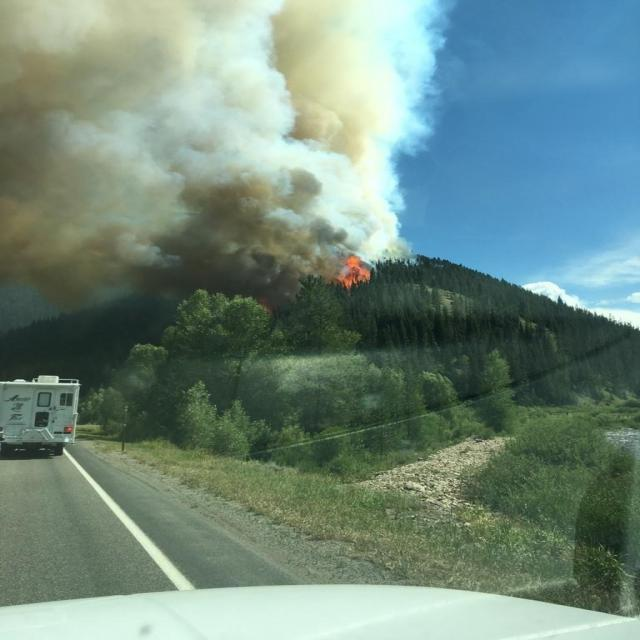Fire: (340, 253, 378, 289)
Smoke: (0, 3, 463, 308)
